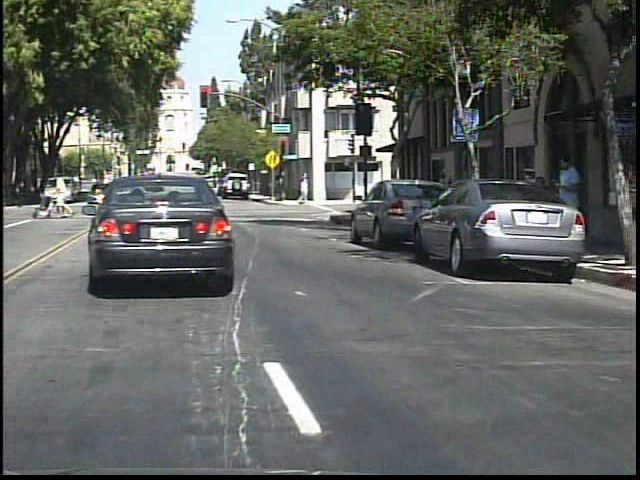person: (552, 147, 584, 261), (61, 171, 82, 220), (2, 175, 18, 210), (51, 174, 52, 207)
